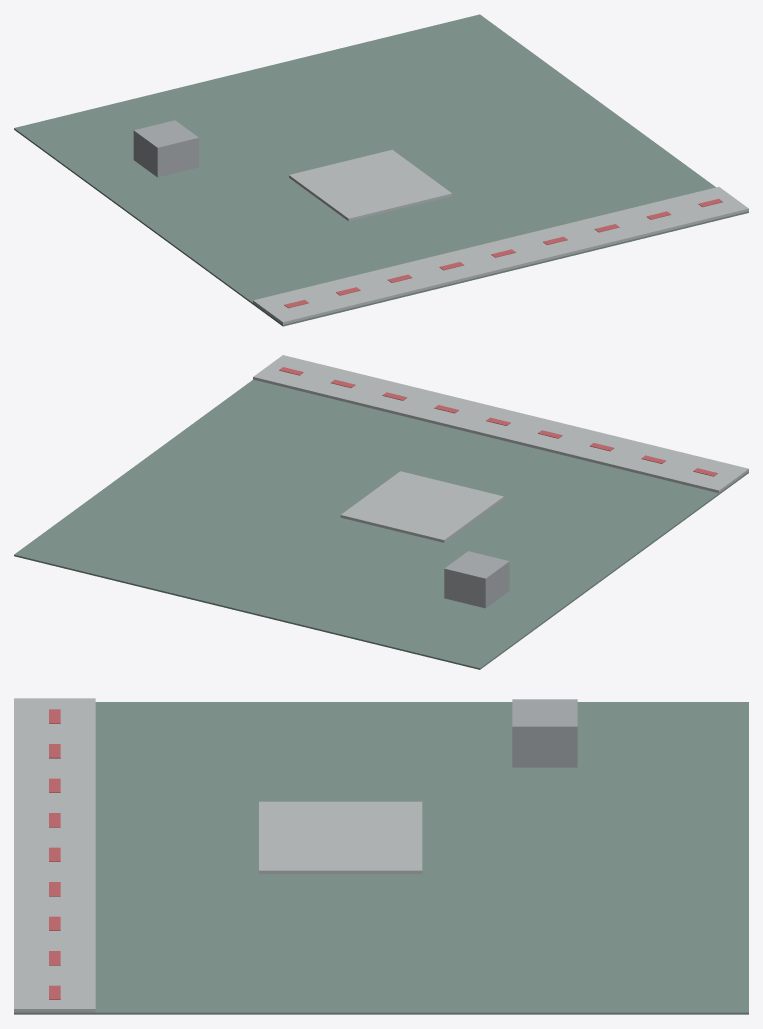
Rendered from stage_02.glb.
3 renders of one model, top to bottom at view 1: azimuth 30°, elevation 25°; view 2: azimuth 150°, elevation 25°; view 3: azimuth 270°, elevation 25°, orthographic. The views are drawn at different scales.
Visible parts, largest first — view 1: geometry_0; view 2: geometry_0; view 3: geometry_0.
Boxes of the visible parts, x1,y1,x2,y2 form: geometry_0: (14, 14, 748, 326); geometry_0: (14, 355, 748, 669); geometry_0: (14, 698, 748, 1014).
Bounding box in the file's own units: 9 × 0.58 × 9.
